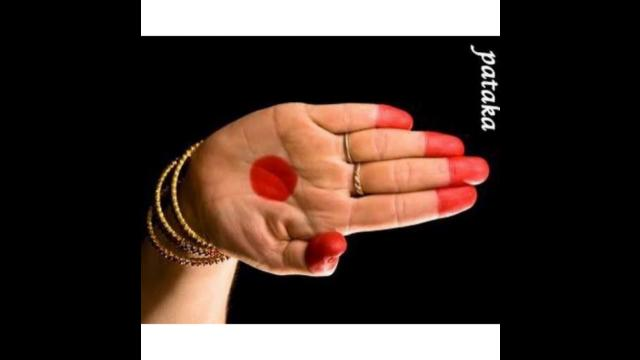pataka: (189, 102, 488, 275)
